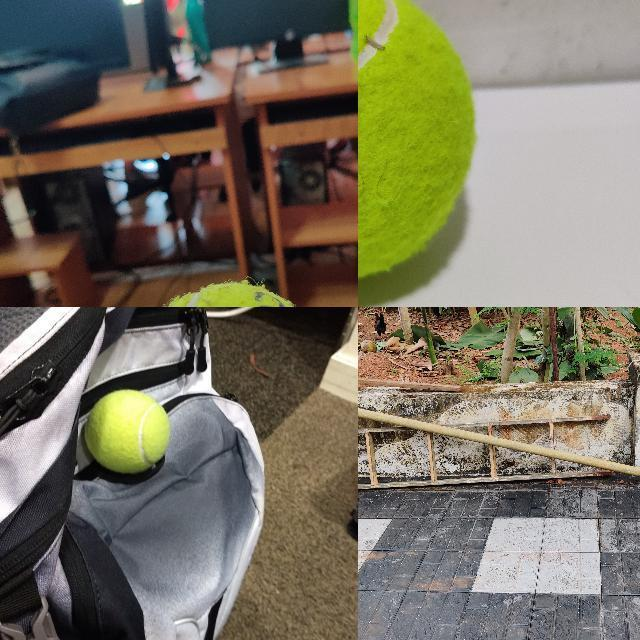tennis-ball: (358, 0, 479, 287), (84, 388, 170, 474)
